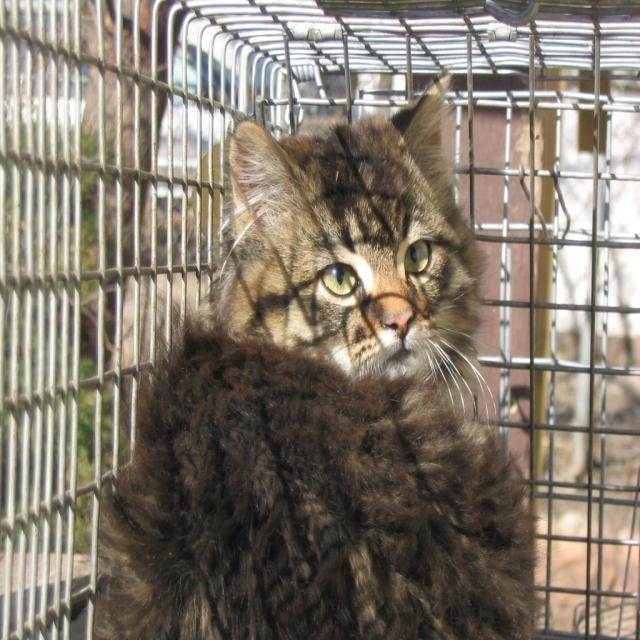Cat: (210, 64, 502, 438)
